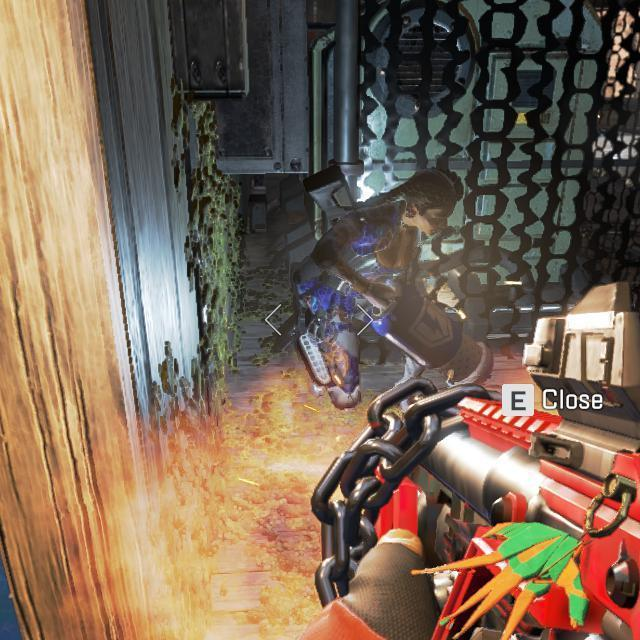avatar: (300, 171, 463, 408)
